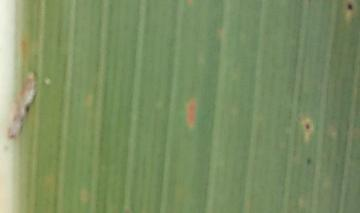tarspot: (301, 119, 314, 133), (342, 2, 357, 13), (22, 100, 32, 116), (303, 154, 313, 168)
